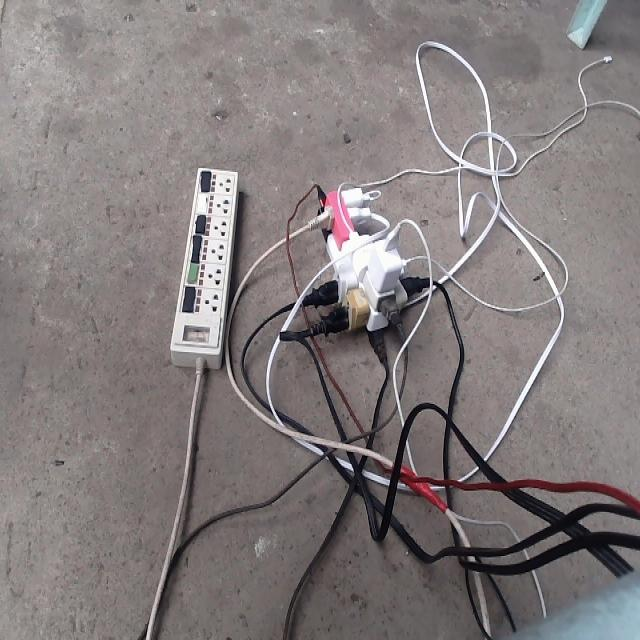-: (292, 177, 438, 348)
